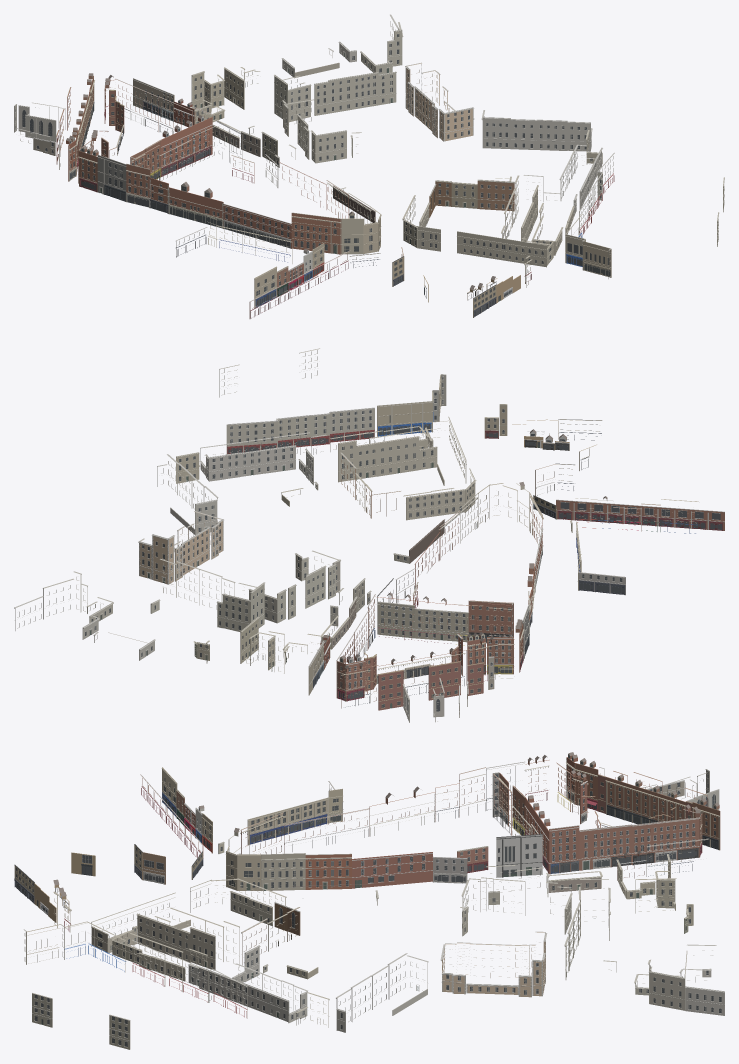
3 renders of one model, top to bottom at view 1: azimuth 30°, elevation 25°; view 2: azimuth 150°, elevation 25°; view 3: azimuth 270°, elevation 25°, orthographic. The views are drawn at different scales.
Visible parts, largest first — view 1: f:way/147487949, f:way/135595983, f:way/147487979, f:way/229676053, f:way/147487969, f:way/147487971, f:way/40937938, f:way/4273290, f:way/147487988, f:way/229676052, f:way/1047150807, f:way/13219585 (+19 smaller); view 2: f:way/4273290, f:way/147487949, f:way/40937938, f:way/147456534, f:way/147487971, f:way/147487959, f:way/1047150810, f:way/147487979, f:way/13219585, f:way/147456536, f:way/135595261, f:way/1047150809 (+13 smaller); view 3: f:way/147487949, f:way/147456536, f:way/229676053, f:way/147456534, f:way/135595983, f:way/40937938, f:way/147487959, f:way/229676052, f:way/229676051, f:way/147487971, f:way/1047150810, f:way/4273290 (+18 smaller).
Boxes of the visible parts, x1=… form: f:way/147487949: x1=402, y1=175, x2=553, y2=267; f:way/135595983: x1=97, y1=106, x2=212, y2=201; f:way/147487979: x1=274, y1=71, x2=396, y2=122; f:way/229676053: x1=291, y1=180, x2=381, y2=254; f:way/147487969: x1=481, y1=110, x2=592, y2=151; f:way/147487971: x1=405, y1=62, x2=474, y2=141; f:way/40937938: x1=249, y1=247, x2=520, y2=318; f:way/4273290: x1=565, y1=152, x2=614, y2=278; f:way/147487988: x1=133, y1=71, x2=224, y2=121; f:way/229676052: x1=223, y1=161, x2=326, y2=248; f:way/1047150807: x1=168, y1=154, x2=278, y2=228; f:way/13219585: x1=282, y1=99, x2=346, y2=163; f:way/4273290: x1=226, y1=374, x2=446, y2=453; f:way/147487949: x1=338, y1=416, x2=476, y2=520; f:way/40937938: x1=512, y1=419, x2=724, y2=530; f:way/147456534: x1=341, y1=648, x2=483, y2=710; f:way/147487971: x1=138, y1=511, x2=223, y2=584; f:way/147487959: x1=199, y1=432, x2=326, y2=485; f:way/1047150810: x1=377, y1=578, x2=468, y2=642; f:way/147487979: x1=150, y1=559, x2=265, y2=631; f:way/13219585: x1=248, y1=550, x2=340, y2=623; f:way/147456536: x1=336, y1=611, x2=376, y2=701; f:way/135595261: x1=457, y1=619, x2=524, y2=675; f:way/1047150809: x1=468, y1=591, x2=530, y2=644; f:way/147487949: x1=91, y1=878, x2=286, y2=970; f:way/147456536: x1=579, y1=804, x2=702, y2=870; f:way/229676053: x1=225, y1=812, x2=351, y2=891; f:way/147456534: x1=598, y1=771, x2=720, y2=850; f:way/135595983: x1=486, y1=761, x2=579, y2=874; f:way/40937938: x1=14, y1=774, x2=203, y2=922; f:way/147487959: x1=188, y1=945, x2=307, y2=1023; f:way/229676052: x1=284, y1=808, x2=432, y2=888; f:way/229676051: x1=161, y1=767, x2=328, y2=845; f:way/147487971: x1=440, y1=931, x2=547, y2=997; f:way/1047150810: x1=496, y1=804, x2=543, y2=877; f:way/4273290: x1=23, y1=921, x2=247, y2=1018.
Size of the model in its own units: 224 by 20.99 by 257.
